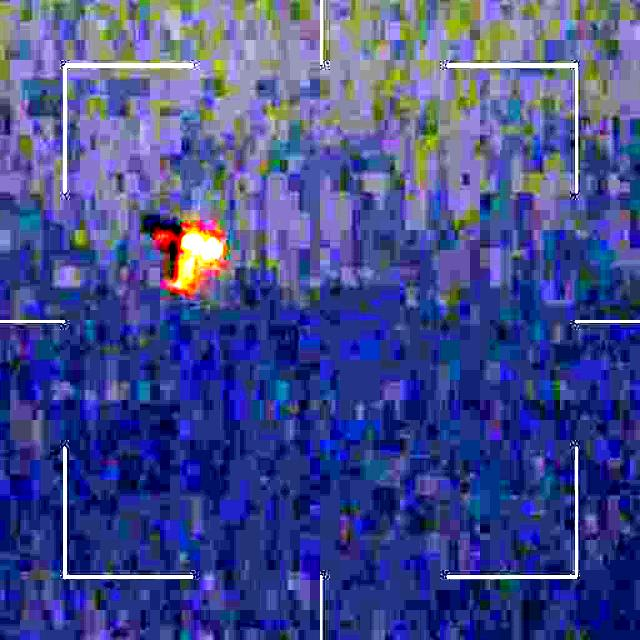bird: (141, 208, 238, 299)
